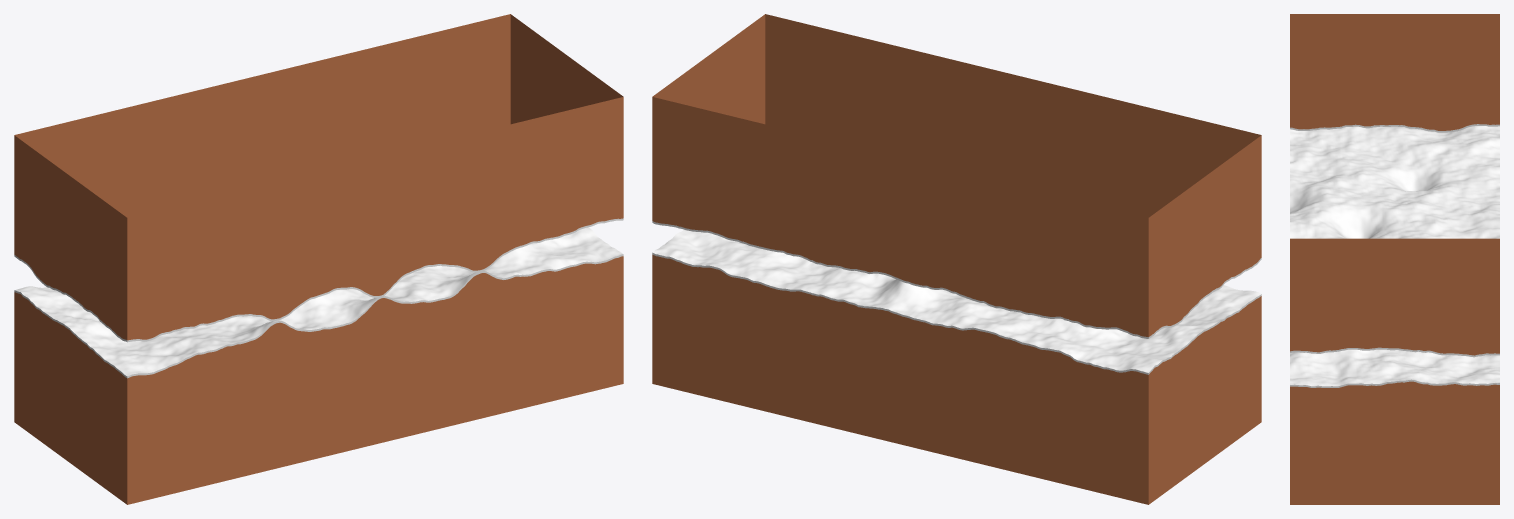
File: nano-micro.glb
3 renders of one model, left to right at view 1: azimuth 30°, elevation 25°; view 2: azimuth 150°, elevation 25°; view 3: azimuth 270°, elevation 25°, orthographic. The views are drawn at different scales.
Visible parts, largest first — view 1: cu_up, cu_low, ox_low, ox_up; view 2: cu_up, cu_low, ox_low, ox_up; view 3: cu_up, cu_low, ox_up, ox_low.
Part boxes in pixels (bbox=[...]): cu_up: bbox=[14, 14, 623, 340]; cu_low: bbox=[14, 256, 623, 504]; ox_low: bbox=[14, 227, 623, 378]; ox_up: bbox=[14, 218, 623, 342]; cu_up: bbox=[652, 14, 1261, 337]; cu_low: bbox=[652, 254, 1261, 504]; ox_low: bbox=[652, 229, 1261, 374]; ox_up: bbox=[652, 221, 1261, 338]; cu_up: bbox=[1290, 14, 1499, 355]; cu_low: bbox=[1290, 381, 1499, 504]; ox_up: bbox=[1290, 124, 1499, 357]; ox_low: bbox=[1290, 349, 1499, 387].
Bounding box in the file's own units: 3.8 × 2.1 × 1.5.
